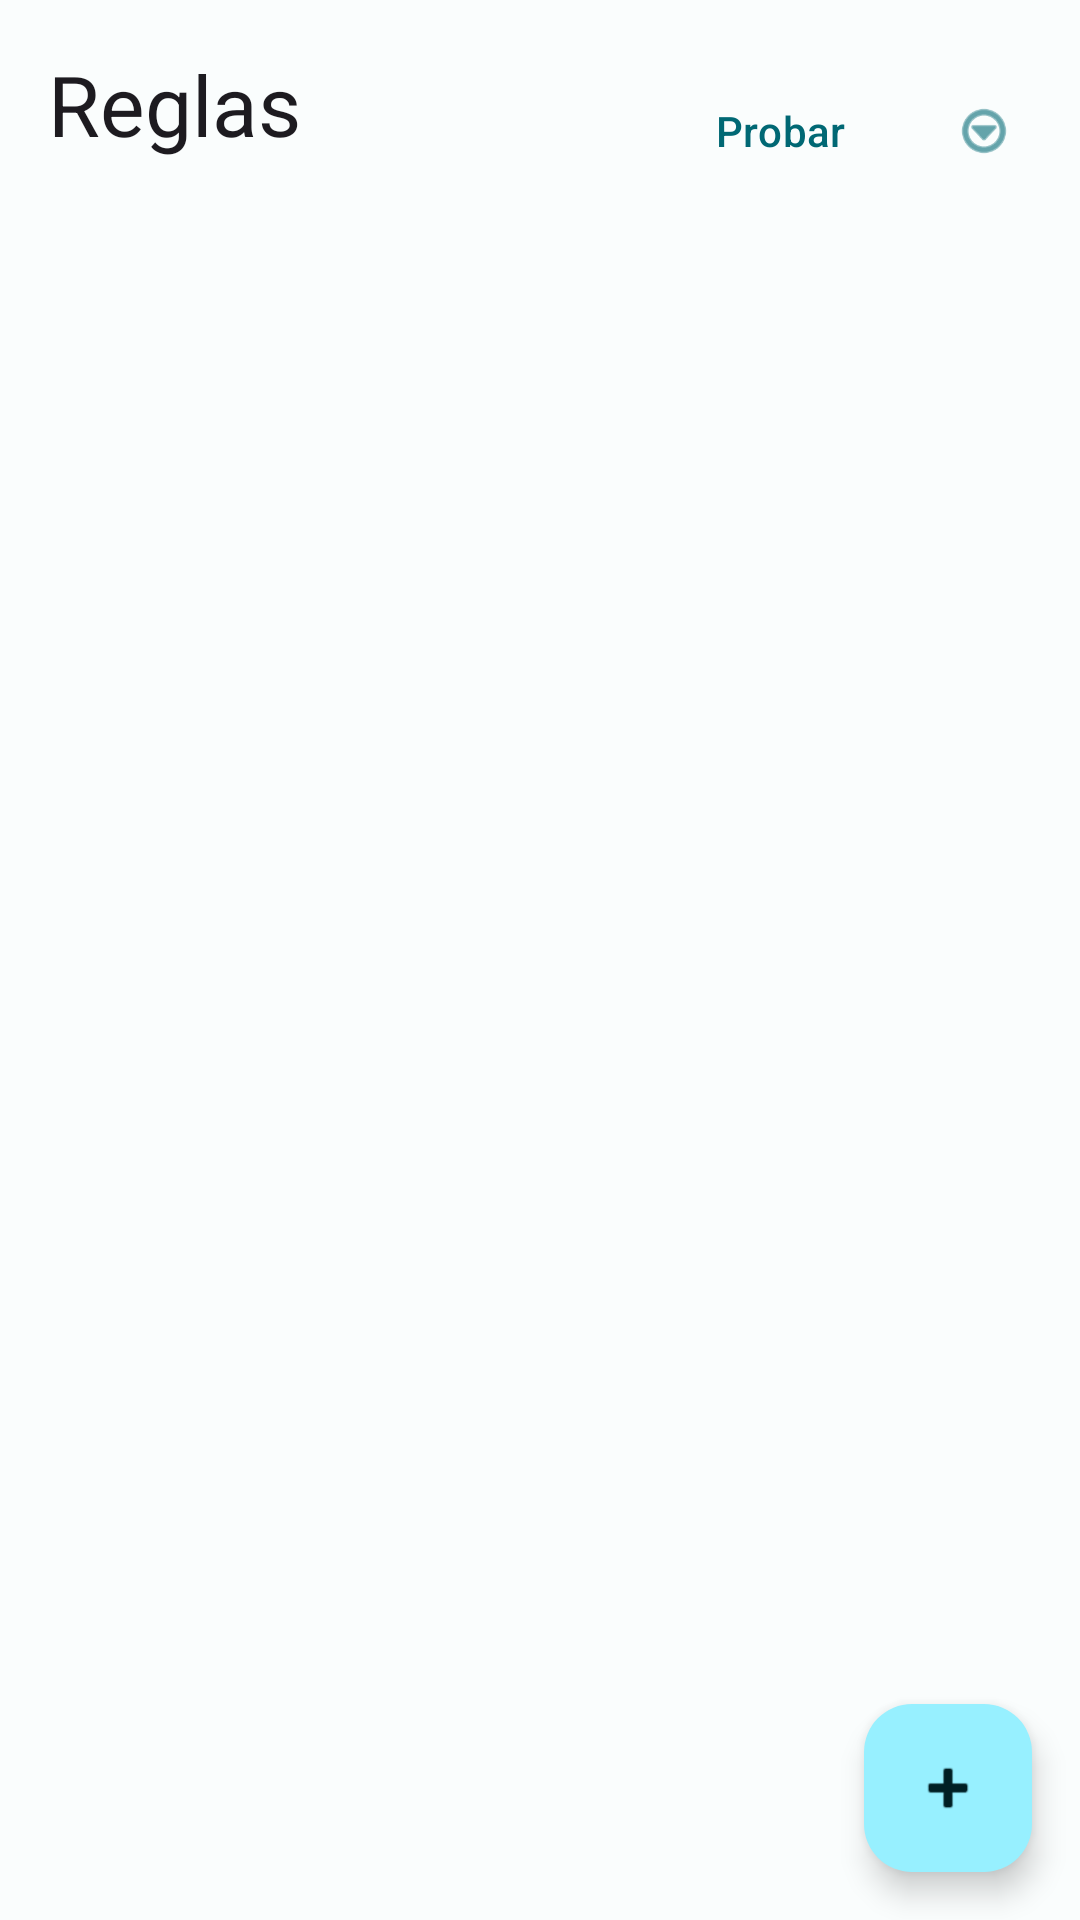

Icon click points for this 1080x1920 phone screenshot, format (x,y):
Más opciones: (984,131)
Nueva regla: (948,1788)
